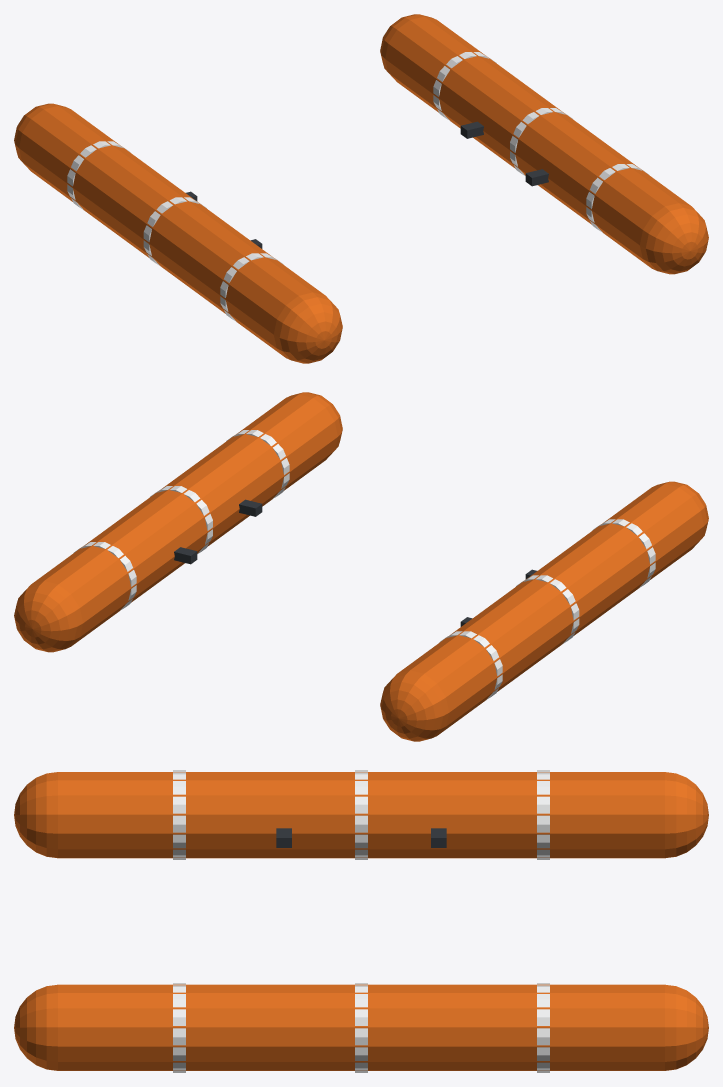
The model's file is boat_floats.glb.
3 renders of one model, top to bottom at view 1: azimuth 30°, elevation 25°; view 2: azimuth 150°, elevation 25°; view 3: azimuth 270°, elevation 25°, orthographic. The views are drawn at different scales.
Visible parts, largest first — view 1: model; view 2: model; view 3: model.
Part boxes in pixels (<box>): model: <box>14,14,708,363</box>; model: <box>14,392,708,741</box>; model: <box>14,770,708,1072</box>.
Bounding box in the file's own units: 2.68 × 0.4081 × 3.15.
1 material, 1 textured.
